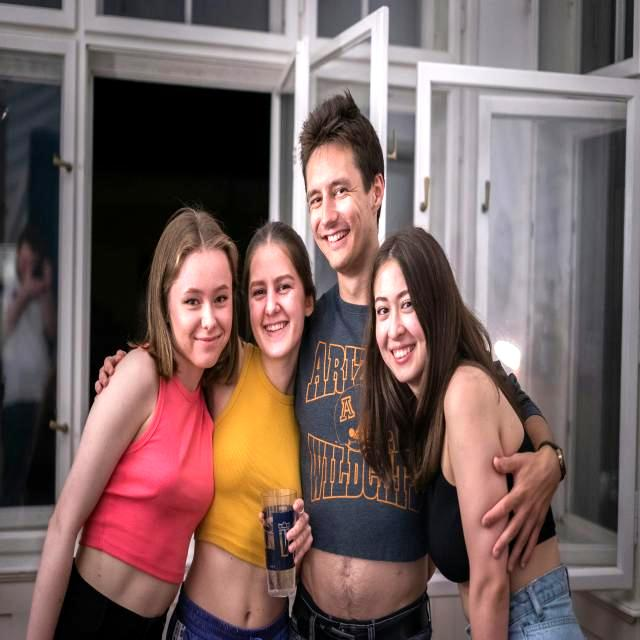no_head_wear: (299, 88, 384, 192), (149, 207, 238, 295), (371, 227, 455, 295), (245, 221, 311, 277)
person: (27, 207, 240, 638), (366, 227, 583, 640), (290, 92, 432, 640), (167, 221, 315, 640)
